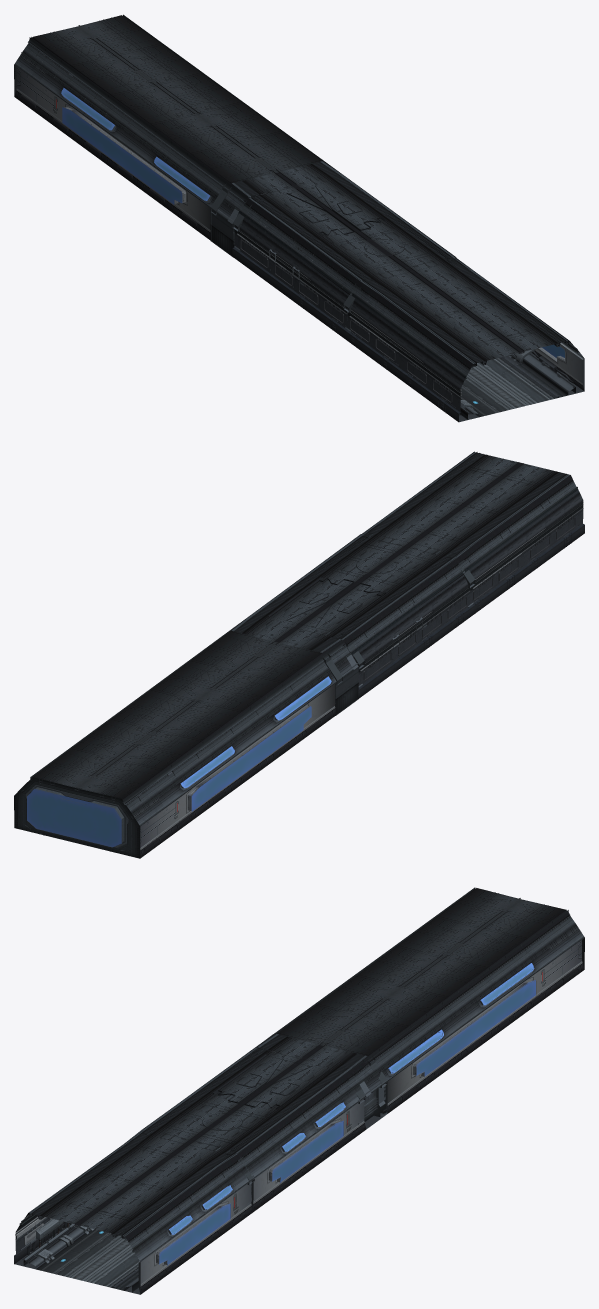
Rendered from xan2_sjs_obj.FBX.
3 views of the same model, one above another, from view 1: azimuth 30°, elevation 25°; view 2: azimuth 150°, elevation 25°; view 3: azimuth 330°, elevation 25° (orthographic).
Visible parts, largest first — view 1: sjs_002, sjs_003, sjs_001, sjs_012; view 2: sjs_002, sjs_003, sjs_012; view 3: sjs_002, sjs_003, sjs_001, sjs_023, sjs_012.
Boxes of the visible parts, x1,y1,x2,y2 form: sjs_002: (14,15,584,422); sjs_003: (14,14,578,419); sjs_001: (211,189,584,422); sjs_012: (61,88,209,204); sjs_002: (14,452,584,858); sjs_003: (21,451,583,858); sjs_012: (27,676,331,847); sjs_002: (14,888,584,1294); sjs_003: (15,887,578,1292); sjs_001: (15,1085,387,1294); sjs_023: (159,1102,345,1265); sjs_012: (388,963,535,1076).
Bounding box in the file's own units: 8.11 × 3.4 × 48.62.
